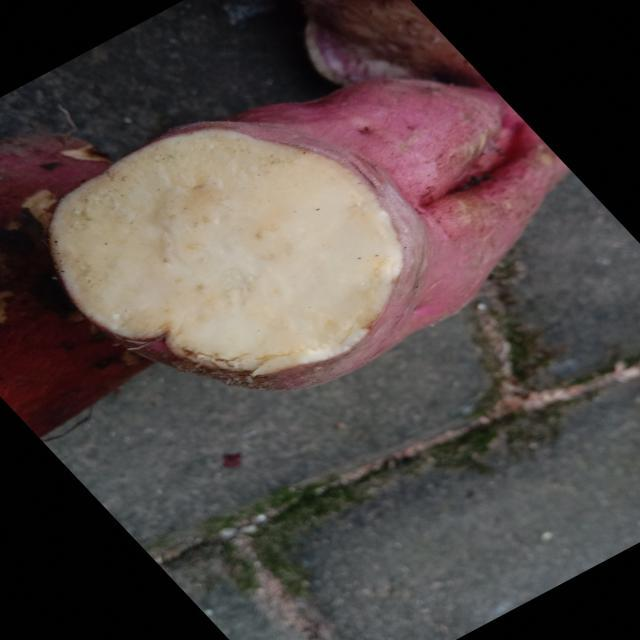Healthy Sweet Potato: (52, 129, 402, 375)
